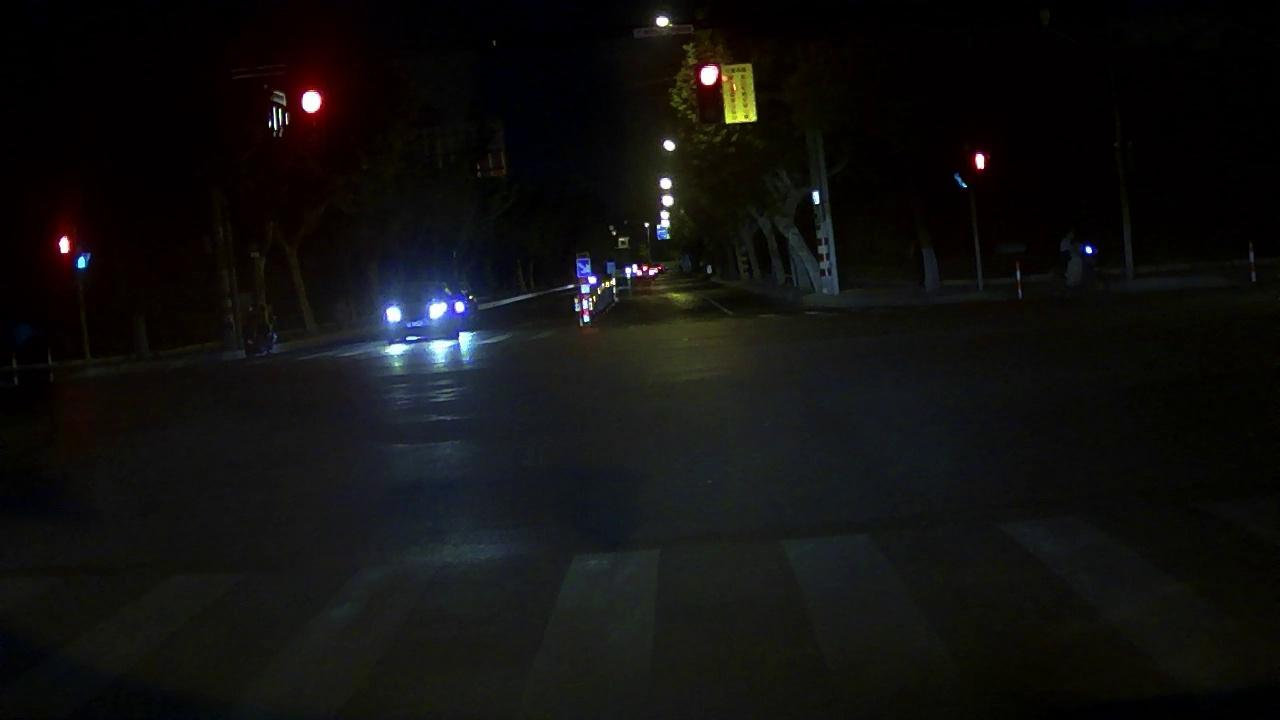traffic_light: (697, 60, 722, 118), (295, 83, 329, 120)
